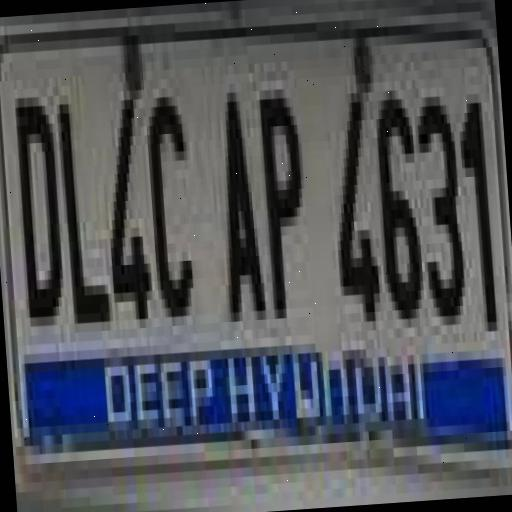number plate: (0, 3, 507, 466)
